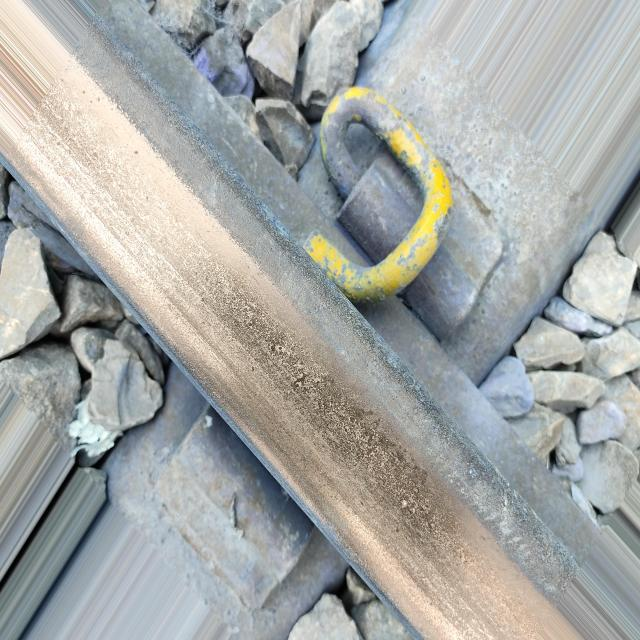Good Fasteners: (278, 65, 504, 363)
Missing Fastener: (154, 420, 324, 626)
